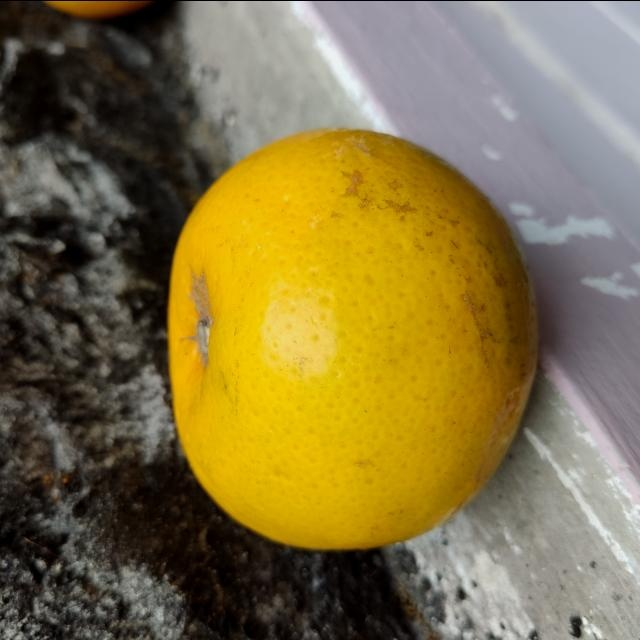agrume: (165, 123, 547, 553)
